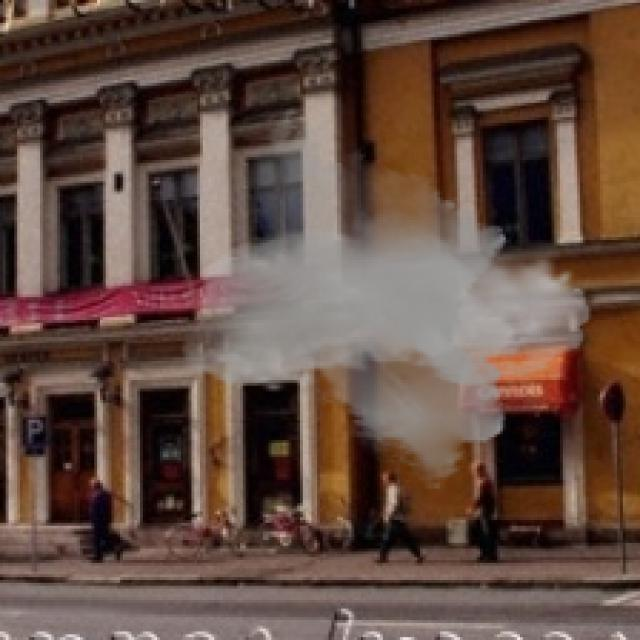smoke: (180, 106, 591, 491)
